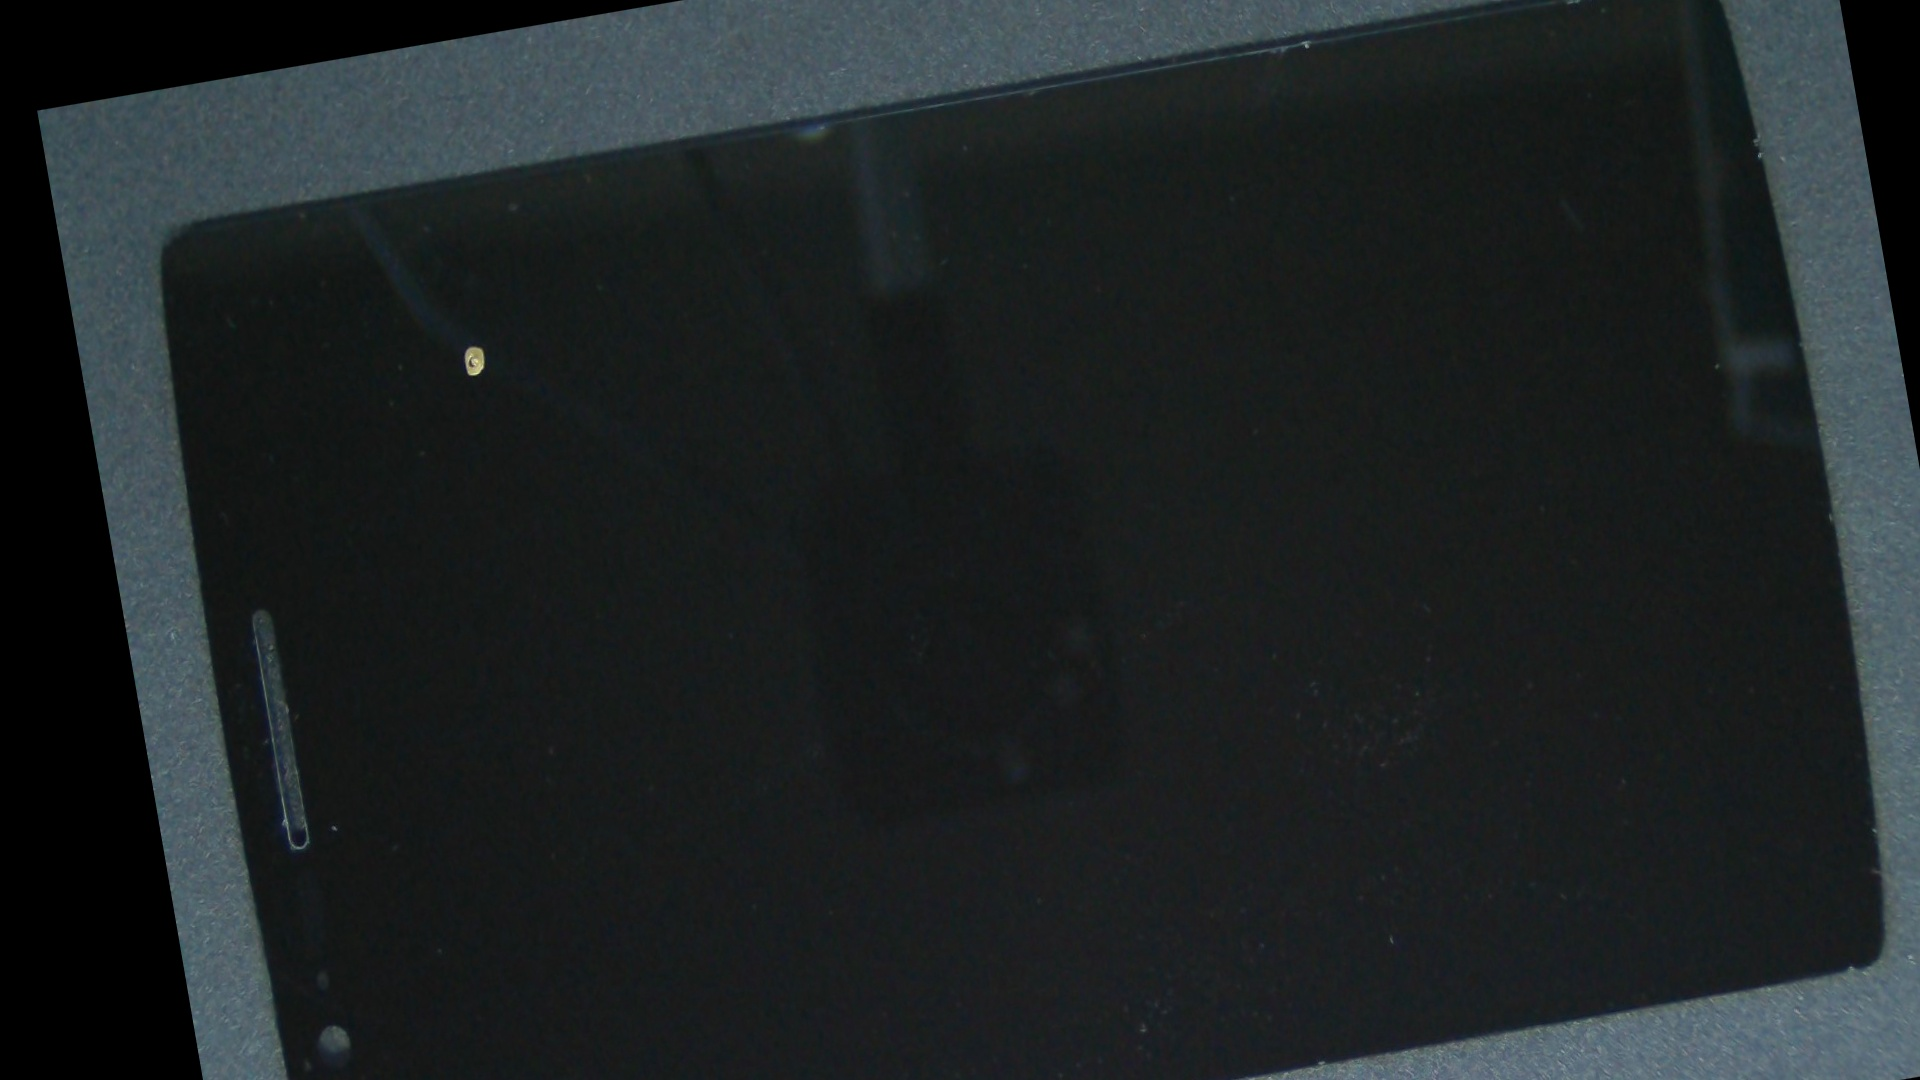oil: (253, 162, 683, 529)
